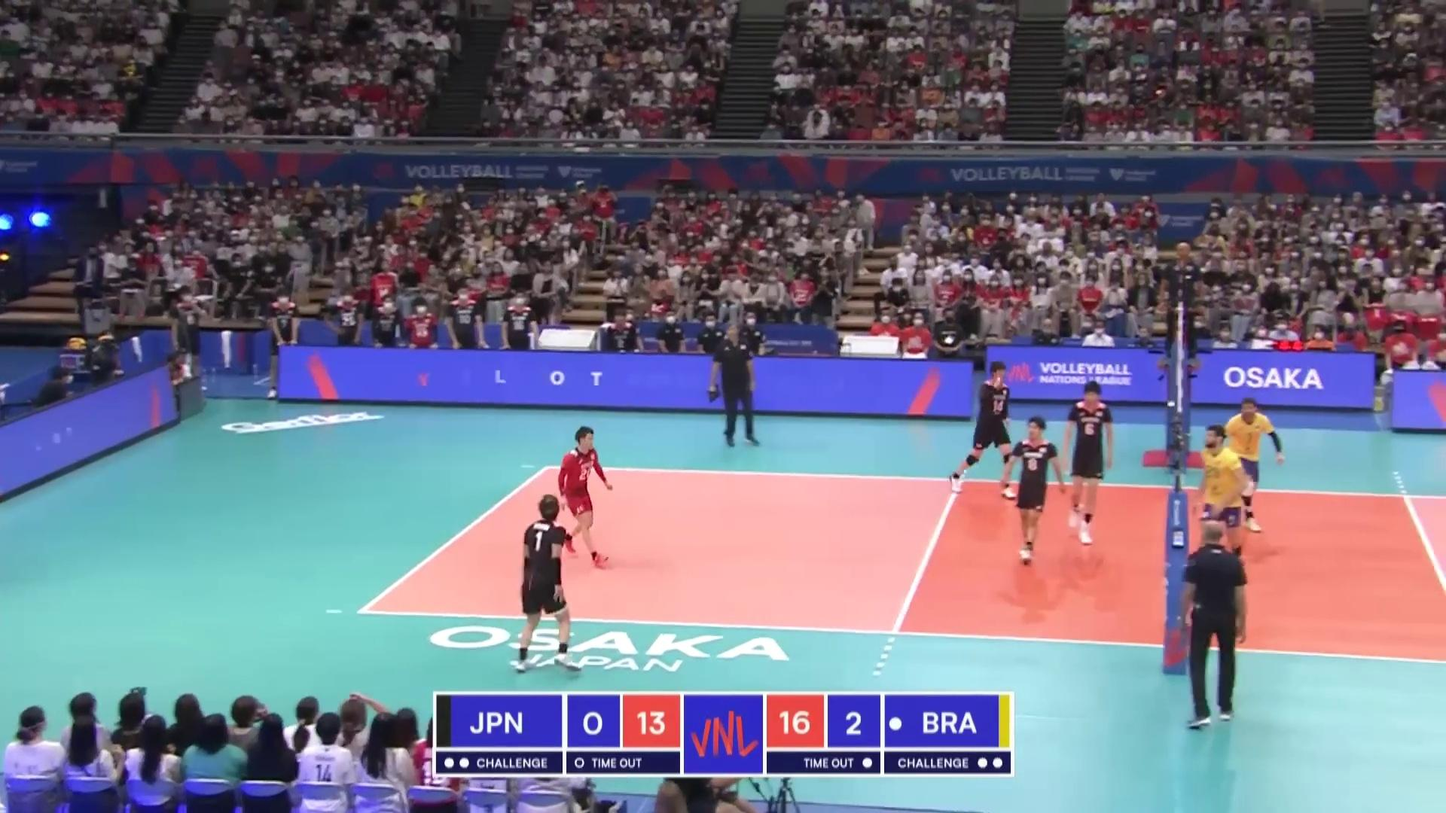player: (511, 494, 585, 670), (999, 415, 1060, 568), (951, 362, 1019, 499), (1222, 398, 1286, 532), (553, 427, 613, 568), (1065, 381, 1117, 542), (1196, 425, 1245, 592)
refree: (1183, 527, 1249, 723), (1162, 242, 1204, 375)
